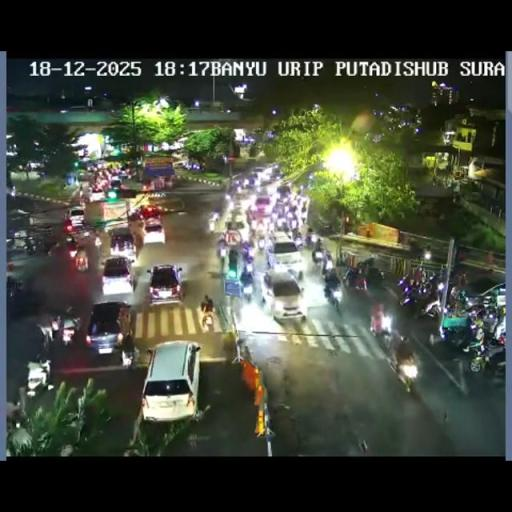Car: (139, 340, 200, 422), (86, 300, 131, 357), (262, 269, 306, 323), (146, 263, 183, 306), (100, 255, 135, 295), (223, 250, 244, 298), (109, 228, 136, 259), (224, 212, 247, 244), (142, 216, 164, 244), (63, 206, 86, 232), (63, 234, 82, 261), (118, 178, 146, 196), (252, 195, 273, 218), (138, 204, 161, 220), (265, 165, 283, 183), (89, 184, 105, 202), (251, 166, 268, 182), (276, 183, 292, 199), (110, 176, 122, 190), (76, 169, 90, 181)
Motorcycle: (268, 402, 302, 454), (466, 330, 504, 376), (439, 310, 476, 350), (390, 338, 418, 390), (24, 357, 53, 395), (414, 289, 444, 321), (371, 320, 396, 356), (342, 263, 366, 293), (120, 334, 139, 368), (365, 266, 386, 292), (490, 308, 506, 341), (448, 284, 469, 309), (398, 274, 418, 300), (462, 302, 488, 322), (324, 282, 341, 312), (222, 328, 236, 362), (6, 399, 22, 427), (6, 275, 24, 299), (42, 234, 60, 254), (60, 322, 76, 344), (240, 275, 254, 299), (240, 241, 254, 265), (50, 314, 62, 340), (202, 306, 214, 330), (286, 266, 304, 282), (452, 270, 467, 288), (265, 247, 276, 270), (24, 238, 38, 256), (311, 244, 324, 263), (414, 266, 426, 286), (290, 226, 302, 245), (419, 244, 432, 261), (226, 182, 238, 198), (322, 255, 332, 274), (256, 234, 267, 251), (281, 221, 291, 238), (217, 242, 227, 259), (224, 198, 234, 215), (245, 209, 253, 228), (270, 206, 279, 222), (300, 206, 307, 226), (305, 232, 313, 247), (94, 233, 102, 247), (242, 178, 250, 188)
